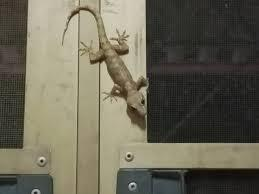lizard: (60, 5, 150, 117)
